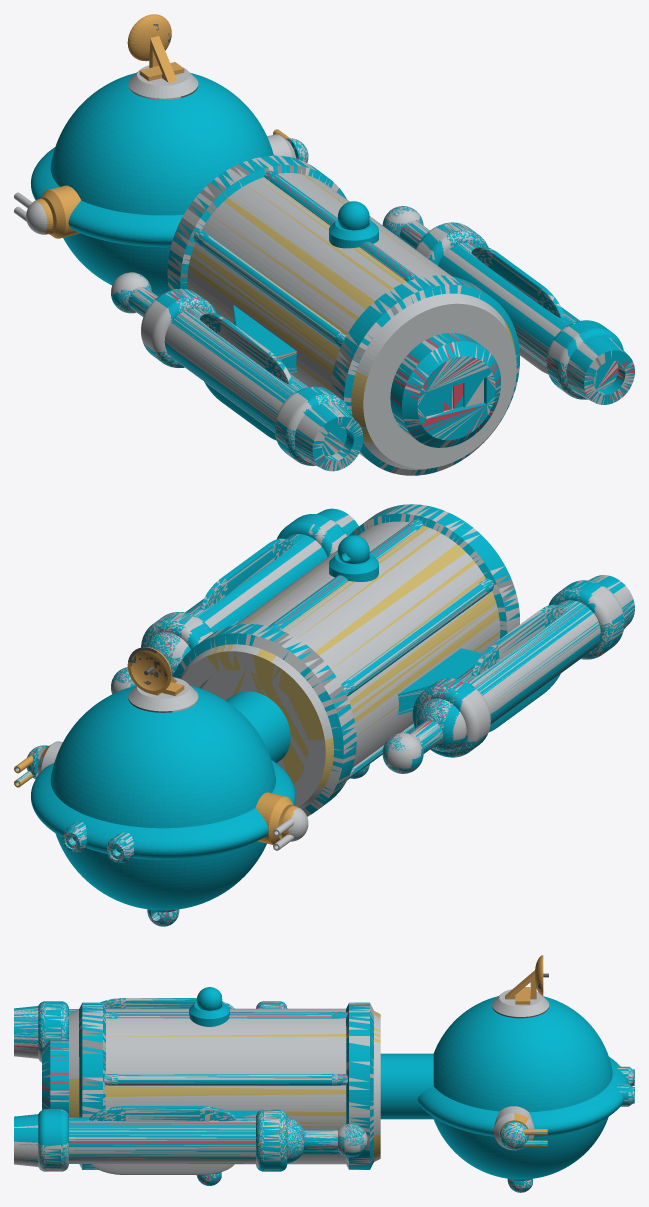
File: Earth Light Cruiser v2.glb
The picture shows the model from 3 angles, top to bottom: view 1: azimuth 30°, elevation 25°; view 2: azimuth 150°, elevation 25°; view 3: azimuth 270°, elevation 25°; orthographic projection. The views are drawn at different scales.
Parts seen in each view (by area): view 1: Mesh_Mesh_head_geo.001_lambert2SG.001; view 2: Mesh_Mesh_head_geo.001_lambert2SG.001; view 3: Mesh_Mesh_head_geo.001_lambert2SG.001.
Part boxes in pixels (box(x1,y1,x2,y2)): Mesh_Mesh_head_geo.001_lambert2SG.001: box(14, 14, 634, 475); Mesh_Mesh_head_geo.001_lambert2SG.001: box(14, 504, 634, 926); Mesh_Mesh_head_geo.001_lambert2SG.001: box(14, 955, 634, 1192).
Size of the model in its own units: 85.5 by 69.52 by 167.
